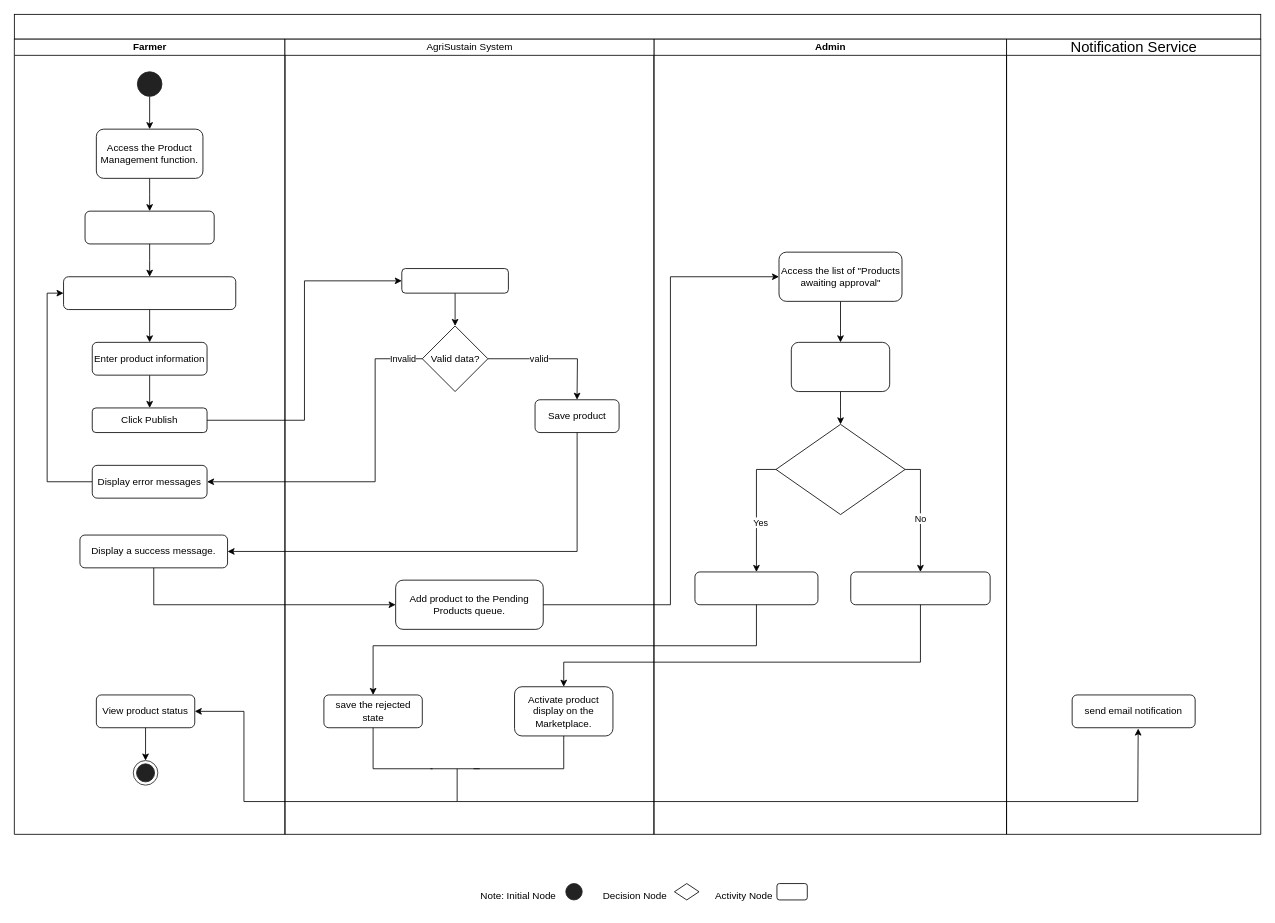
Image size: 1275x923. Some labels were removed from this diagram. Each missing label, with the centre of its shape:
Add new products: (x=149, y=227)
Data Validation: (x=454, y=280)
Display the product submission form: (x=149, y=293)
Does the product meet safety/content standards?: (x=840, y=469)
Farmer product upload flow: (x=637, y=26)
Review agricultural product details: (x=840, y=367)
Select the "Approve" option.: (x=920, y=588)
Select the "Reject" option.: (x=756, y=588)
